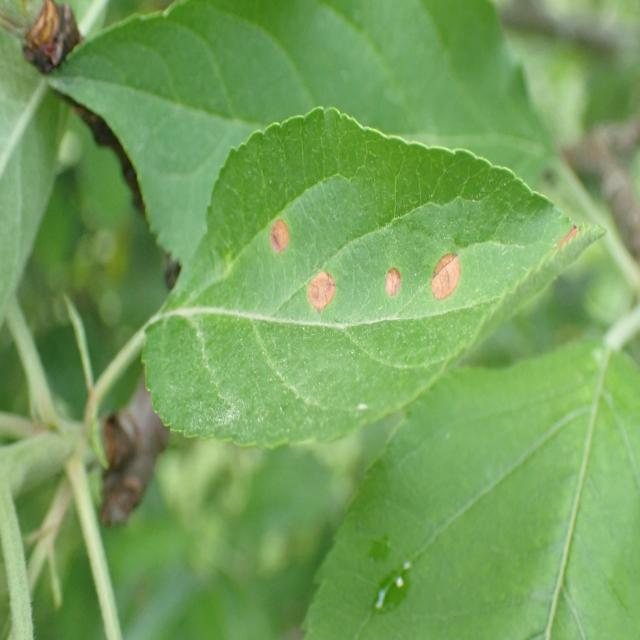Black Rot: (420, 228, 476, 318), (298, 248, 342, 324), (378, 242, 407, 336), (263, 198, 292, 261)
